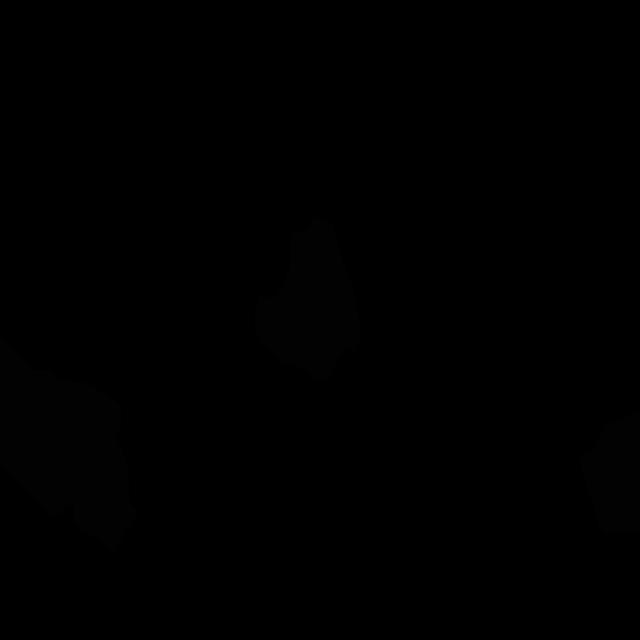cardboard: (0, 336, 139, 553), (254, 216, 360, 381), (578, 409, 640, 534)
